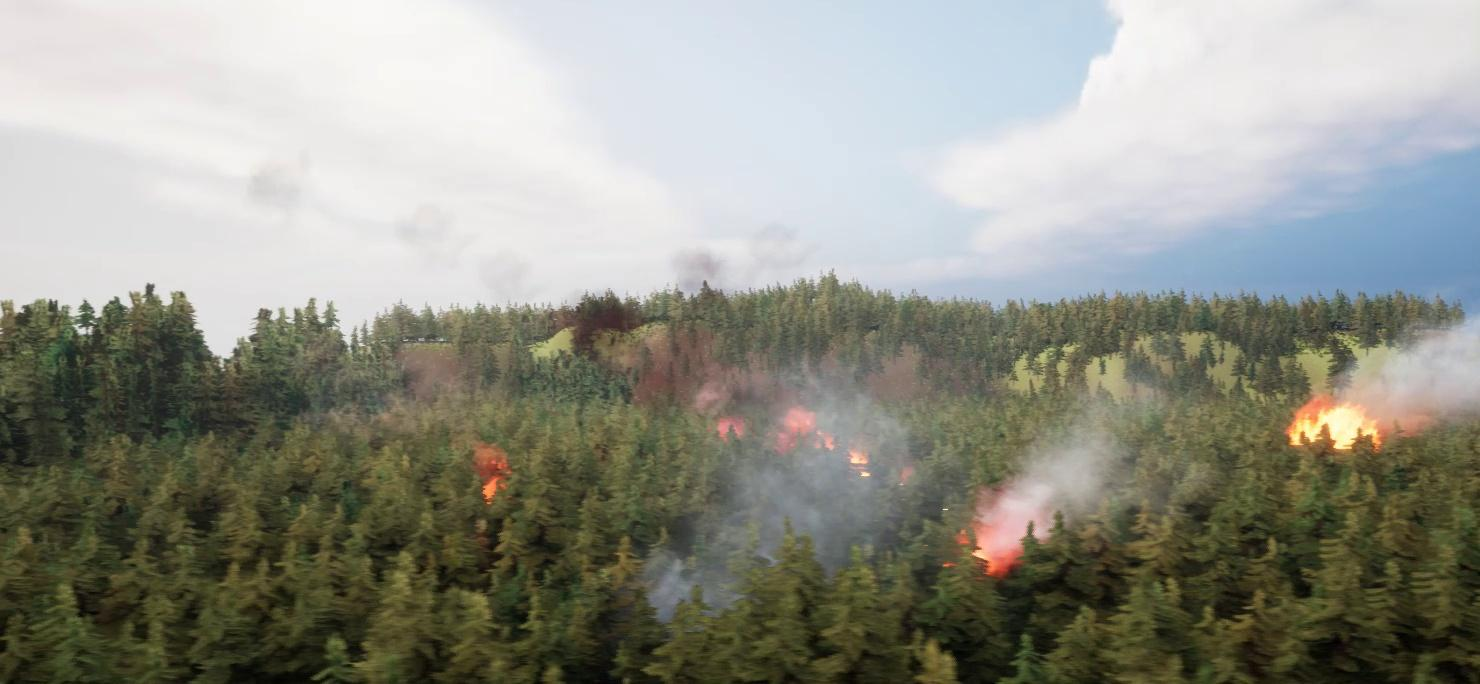fire: (718, 401, 893, 478), (944, 522, 1034, 581), (1288, 401, 1385, 455), (467, 432, 511, 506)
smoke: (564, 224, 919, 616), (980, 399, 1139, 550), (1344, 317, 1479, 427)
